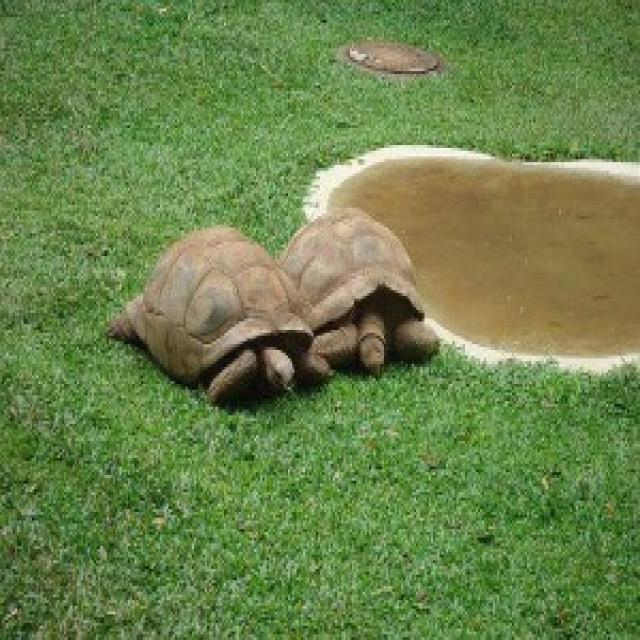Sea turtle: (107, 203, 302, 464), (309, 190, 457, 382)
